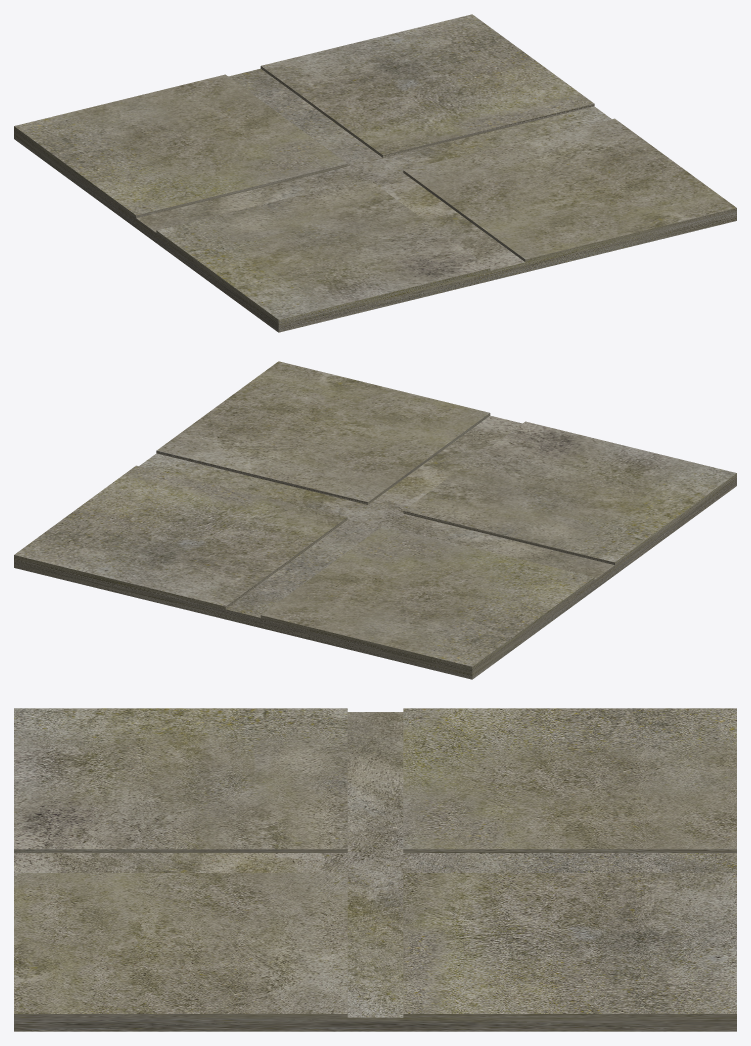
Rendered from Suelo.fbx.
3 renders of one model, top to bottom at view 1: azimuth 30°, elevation 25°; view 2: azimuth 150°, elevation 25°; view 3: azimuth 270°, elevation 25°, orthographic. The views are drawn at different scales.
Parts seen in each view (by area): view 1: Suelo; view 2: Suelo; view 3: Suelo.
Boxes of the visible parts, x1,y1,x2,y2 form: Suelo: (14,14,736,332); Suelo: (14,361,736,679); Suelo: (14,708,736,1031).
Size of the model in its own units: 2602 by 70.16 by 2602.
